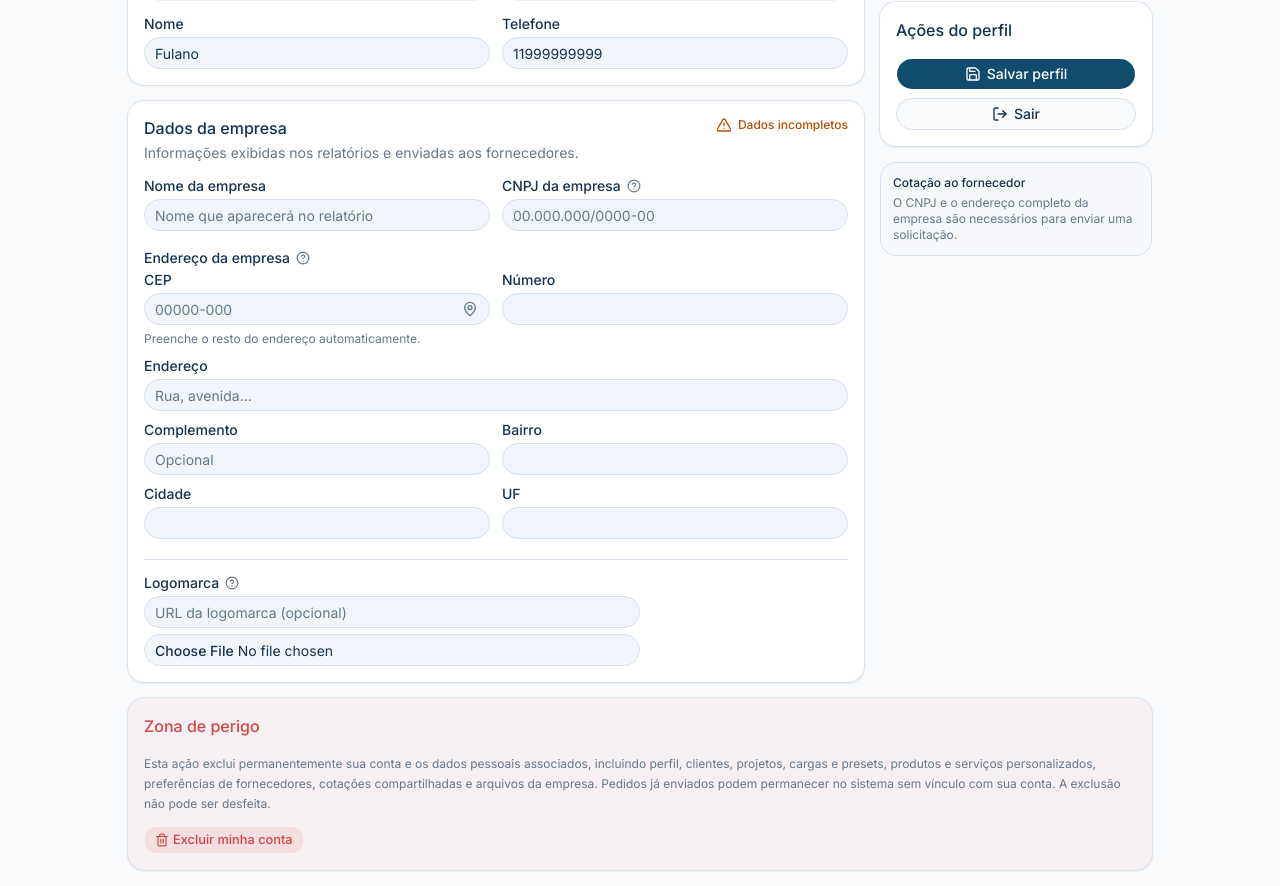
Test case: ProfileTab: delete account flow › shows the delete error and disables confirm while deleting
(page scrolled)
Click the button "Excluir minha conta".
click(224, 840)  # box [144, 826, 304, 854]
(page scrolled)
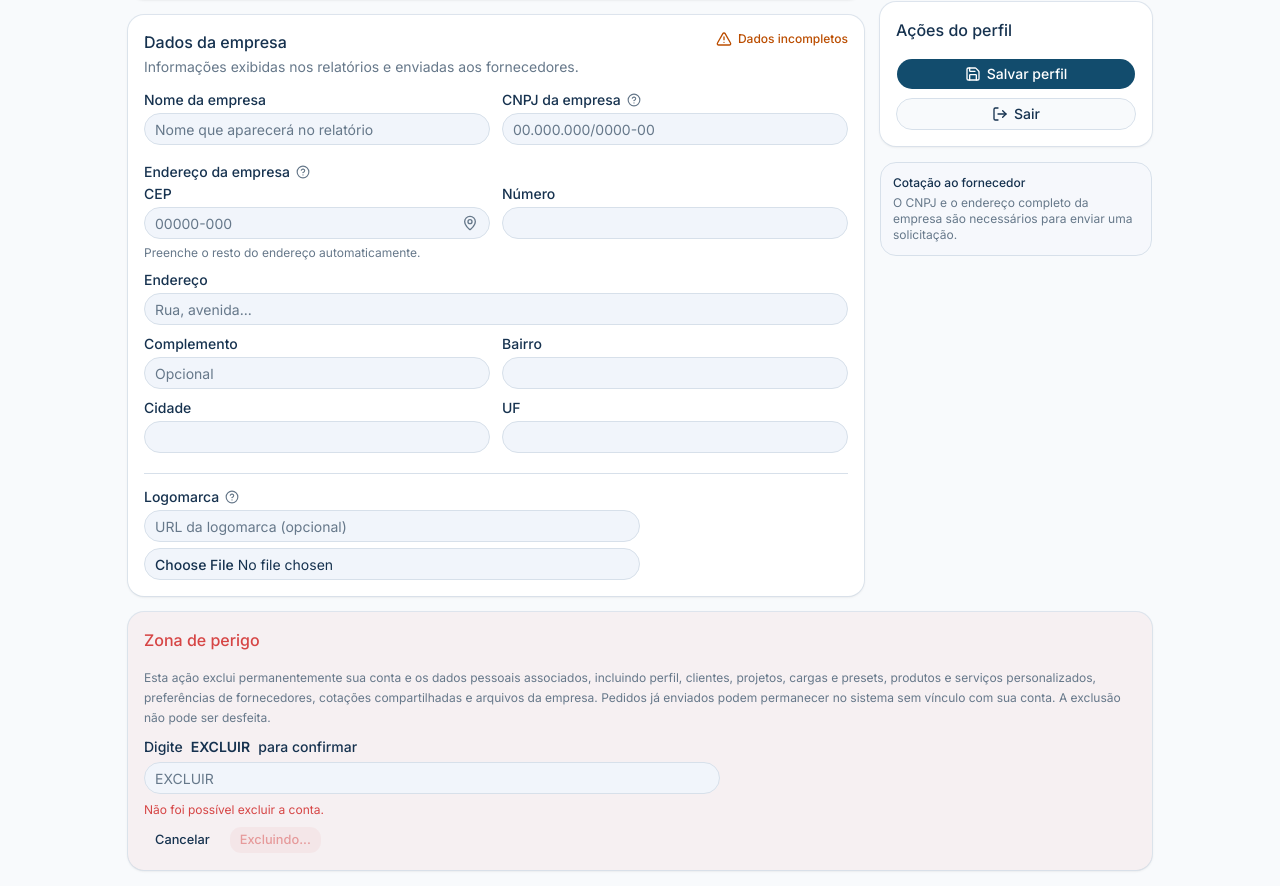
expect the message reads "Não foi possível excluir a conta.": met, box [144, 802, 324, 817]
expect the button "Excluindo..." is disabled: met, box [229, 826, 322, 854]
